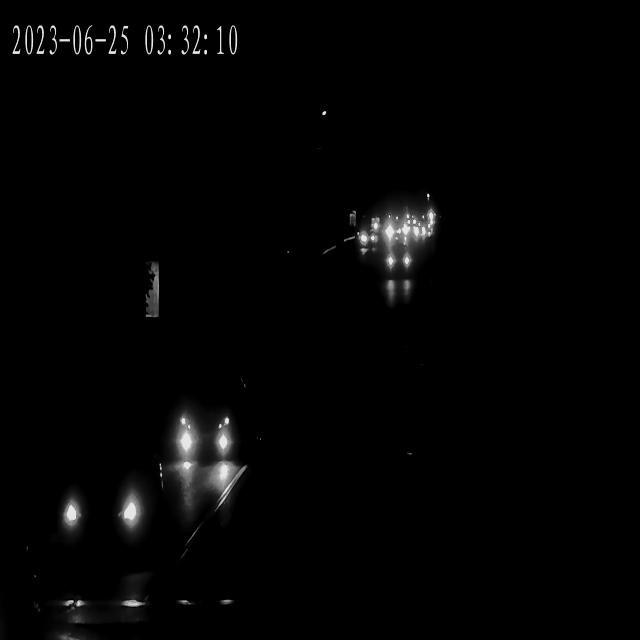Car: (43, 444, 163, 564), (175, 405, 242, 462), (381, 248, 410, 279), (384, 244, 412, 274), (354, 230, 378, 252), (357, 226, 378, 249), (383, 221, 407, 241), (413, 226, 434, 242), (411, 224, 433, 239)
